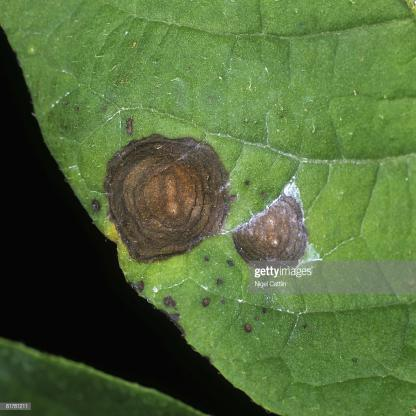Potato leaf early blight: (4, 3, 416, 410)
